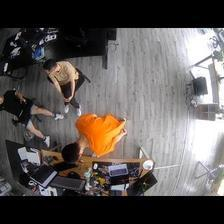normal: (62, 114, 130, 158)
